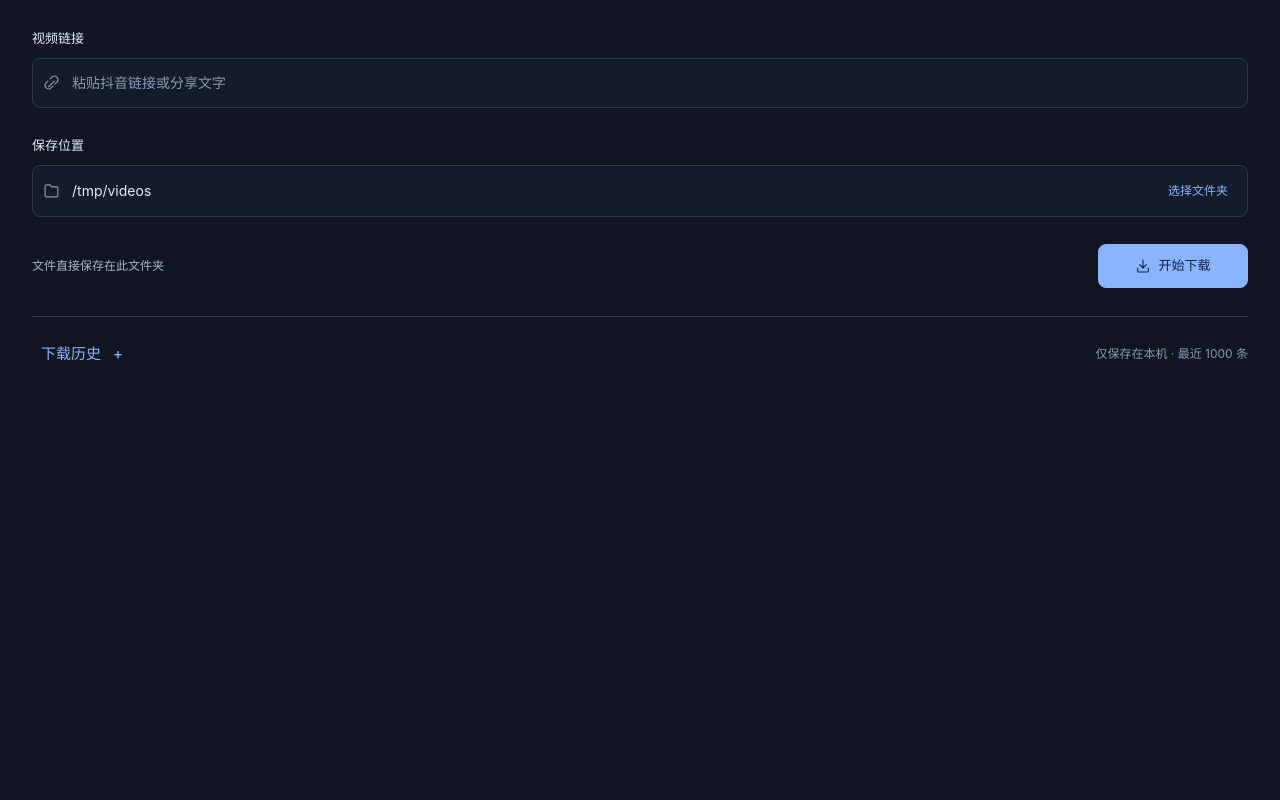
Scenario: loads persistent history, marks missing files, and paginates instead of an unbounded list
Expected: the field showing "/tmp/videos" is shown, [70, 176, 1149, 206]
Click the button "下载历史 +". click: click(82, 354)
box: [32, 335, 132, 373]
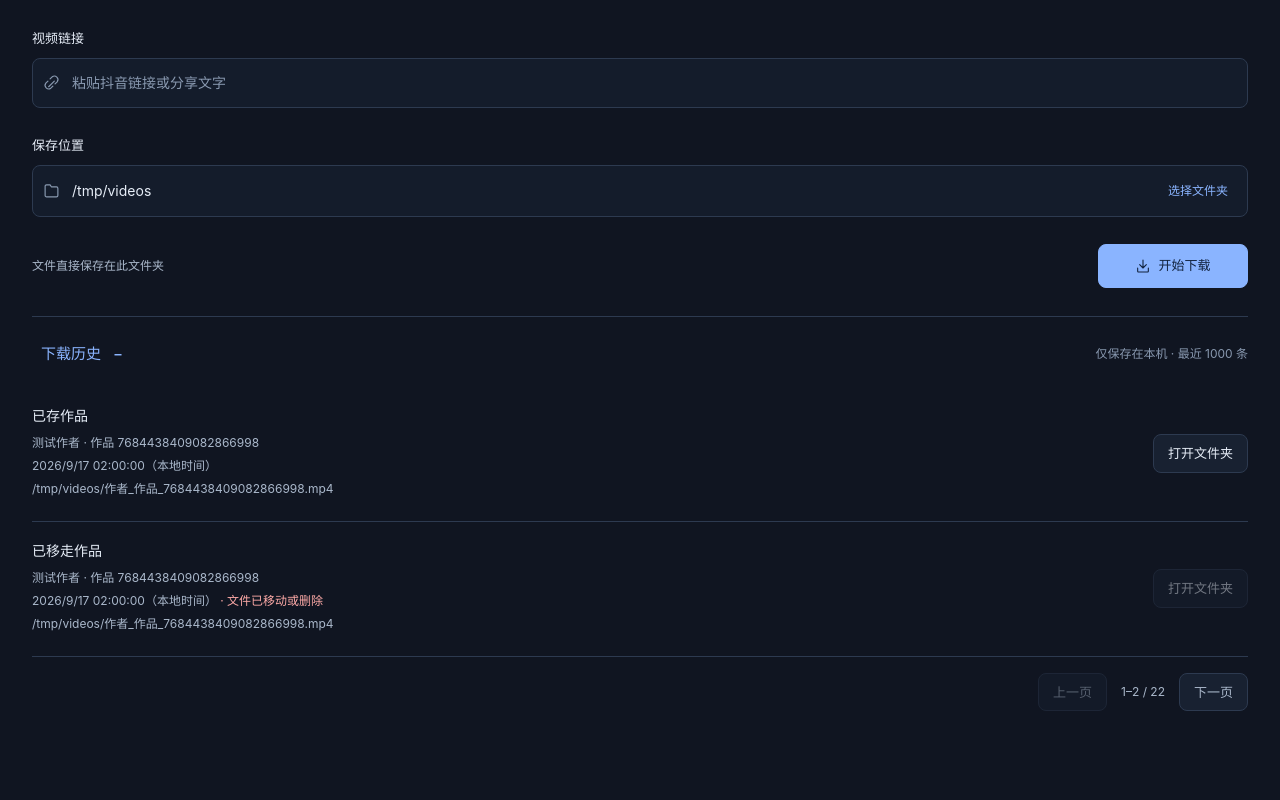
Expected: the heading "已存作品" is shown, [32, 407, 88, 424]
Expected: the text "· 文件已移动或删除" is shown, [217, 593, 323, 608]
Expected: the button "打开文件夹" in the row of "· 文件已移动或删除" is disabled, [1153, 569, 1248, 608]
Click the button "下一页". click: click(1214, 692)
box: [1179, 672, 1248, 711]
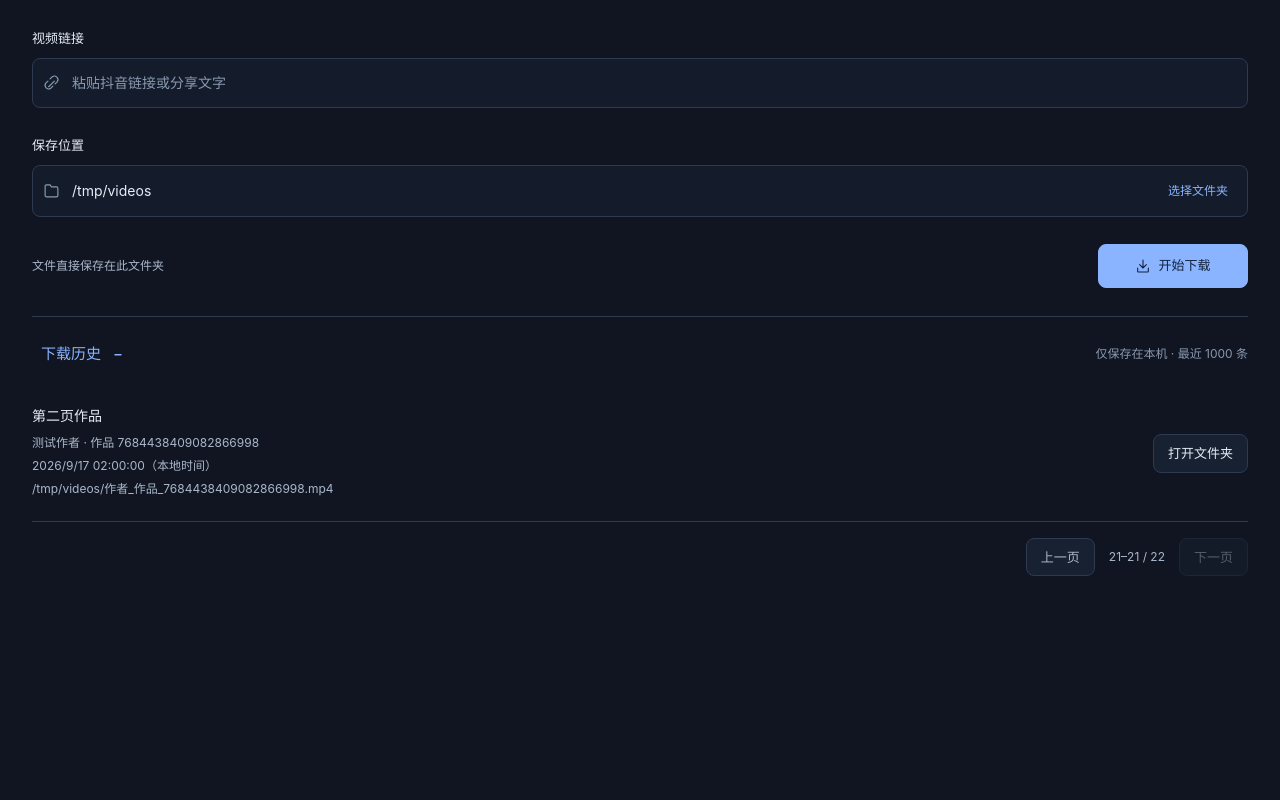
Expected: the heading "第二页作品" is shown, [32, 407, 102, 424]
Expected: the heading "已存作品" is gone
